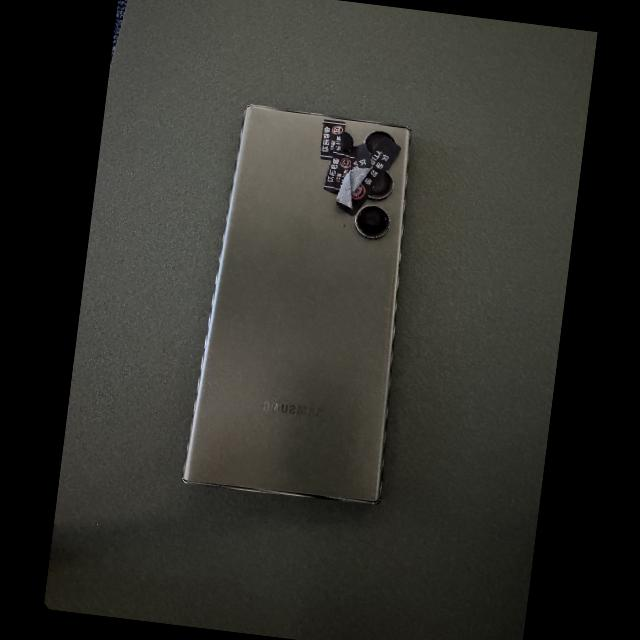lens: (356, 206, 388, 237), (364, 131, 395, 153), (368, 172, 390, 198), (342, 133, 352, 151)
phone: (183, 105, 410, 503)
sticker: (336, 137, 401, 216), (336, 143, 372, 209), (323, 150, 355, 192), (320, 120, 345, 161)
